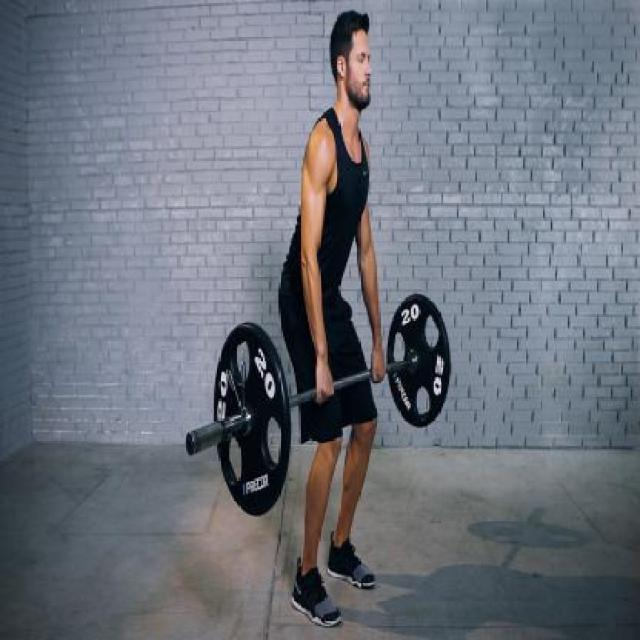barbell: (199, 315, 305, 522), (381, 284, 461, 438)
